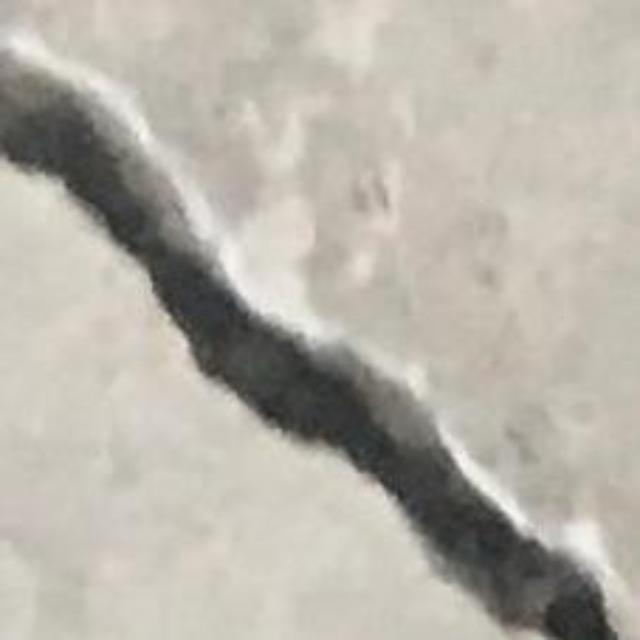crack: (0, 37, 620, 639)
